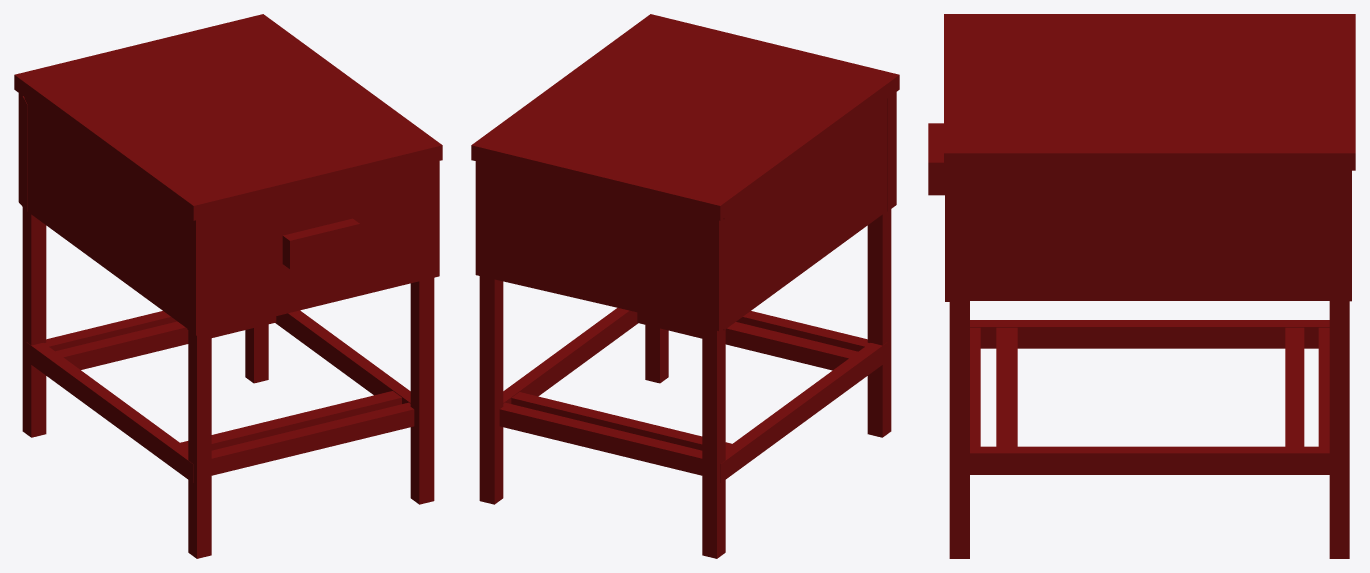
File: table.dae
The picture shows the model from 3 angles, left to right: view 1: azimuth 30°, elevation 25°; view 2: azimuth 150°, elevation 25°; view 3: azimuth 270°, elevation 25°; orthographic projection. The views are drawn at different scales.
Parts seen in each view (by area): view 1: pCube1, pCube2, pCube3, pCube4, polySurface2, pCube6, pCube7, polySurface1; view 2: pCube1, pCube2, pCube3, pCube4, polySurface2, pCube6, polySurface1; view 3: pCube1, pCube3, pCube6, pCube4, polySurface2, pCube2, polySurface1, pCube7.
Part boxes in pixels (box(x1,y1,x2,y2)): pCube1: box(14, 14, 442, 220); pCube2: box(18, 93, 439, 335); pCube3: box(24, 97, 187, 327); pCube4: box(22, 207, 434, 558); polySurface2: box(44, 311, 414, 475); pCube6: box(26, 310, 410, 482); pCube7: box(282, 218, 359, 269); polySurface1: box(180, 391, 400, 448); pCube1: box(471, 14, 899, 220); pCube2: box(475, 92, 896, 330); pCube3: box(723, 98, 887, 330); pCube4: box(479, 209, 891, 558); polySurface2: box(499, 311, 869, 475); pCube6: box(503, 308, 887, 482); polySurface1: box(727, 322, 856, 358); pCube1: box(944, 14, 1355, 170); pCube3: box(964, 170, 1332, 300); pCube6: box(958, 320, 1341, 474); pCube4: box(949, 301, 1349, 558); polySurface2: box(970, 327, 1329, 446); pCube2: box(945, 170, 1351, 301); polySurface1: box(998, 327, 1017, 446); pCube7: box(928, 123, 944, 195).
Bounding box in the file's own units: 9.14 × 12.5 × 11.84.
